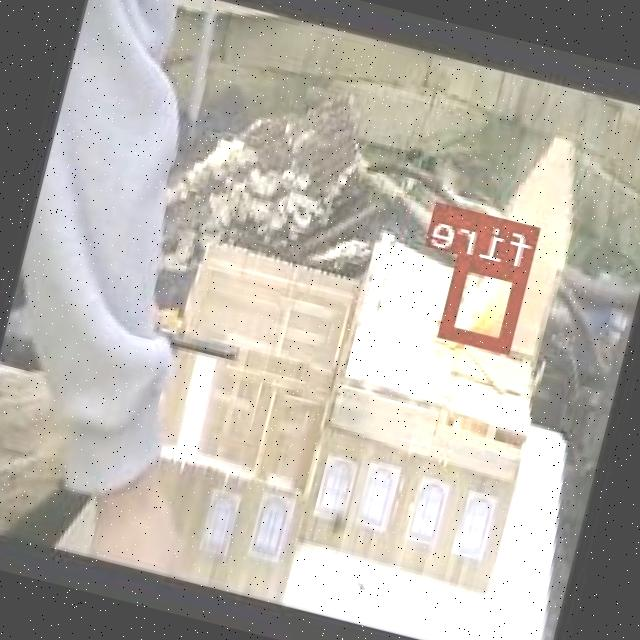fire: (441, 255, 530, 352)
